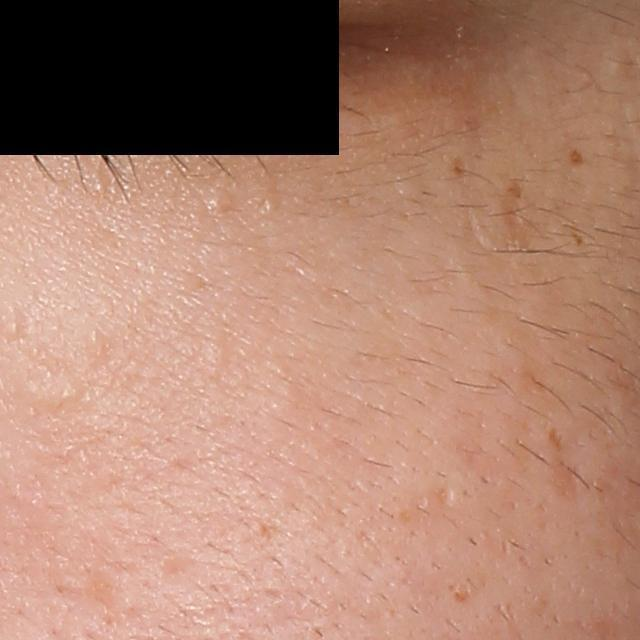atrophic_scar: (75, 560, 128, 626), (157, 547, 201, 595), (436, 480, 455, 504)
comedo: (57, 380, 85, 404), (207, 190, 231, 211)
melasma: (569, 149, 588, 167), (449, 158, 465, 176)
